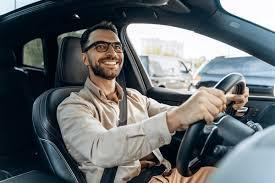Awake: (70, 17, 136, 85)
